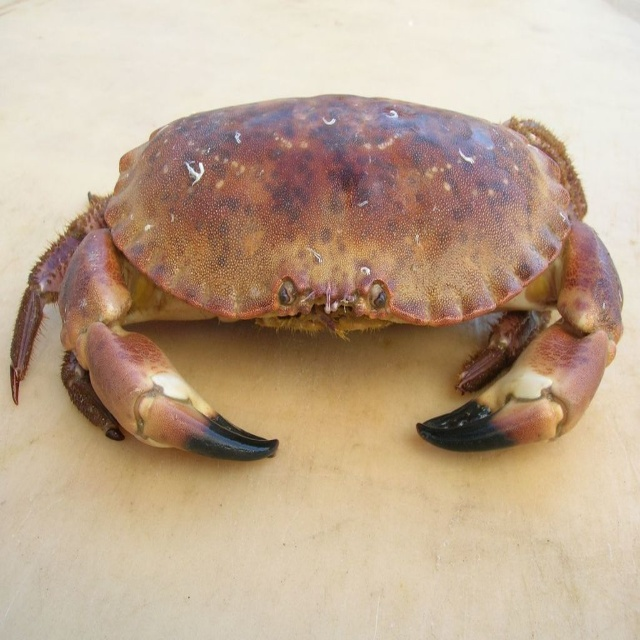Crab: (9, 94, 624, 461)
